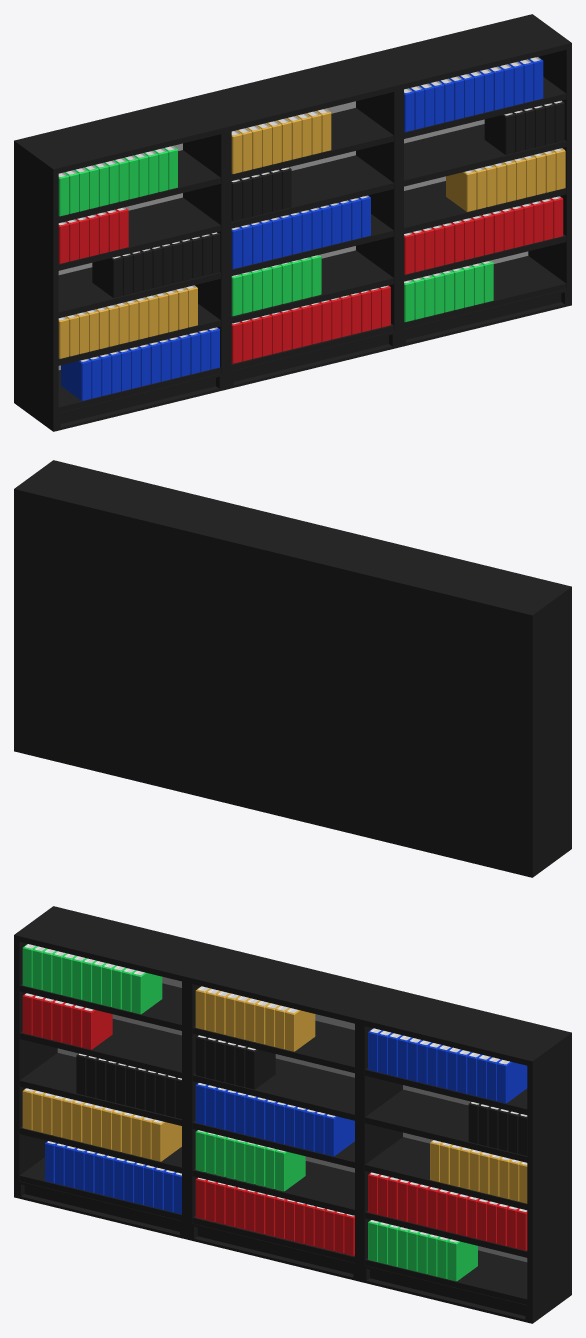
Rendered from book_row.fbx.
3 views of the same model, one above another, from view 1: azimuth 30°, elevation 25°; view 2: azimuth 150°, elevation 25°; view 3: azimuth 330°, elevation 25° (orthographic).
Parts seen in each view (by area): view 1: book_row; view 2: book_row; view 3: book_row.
Part boxes in pixels (bbox=[...]): book_row: bbox=[14, 14, 571, 431]; book_row: bbox=[14, 460, 571, 877]; book_row: bbox=[14, 906, 571, 1323].
Size of the model in its own units: 1518 by 734 by 200.
